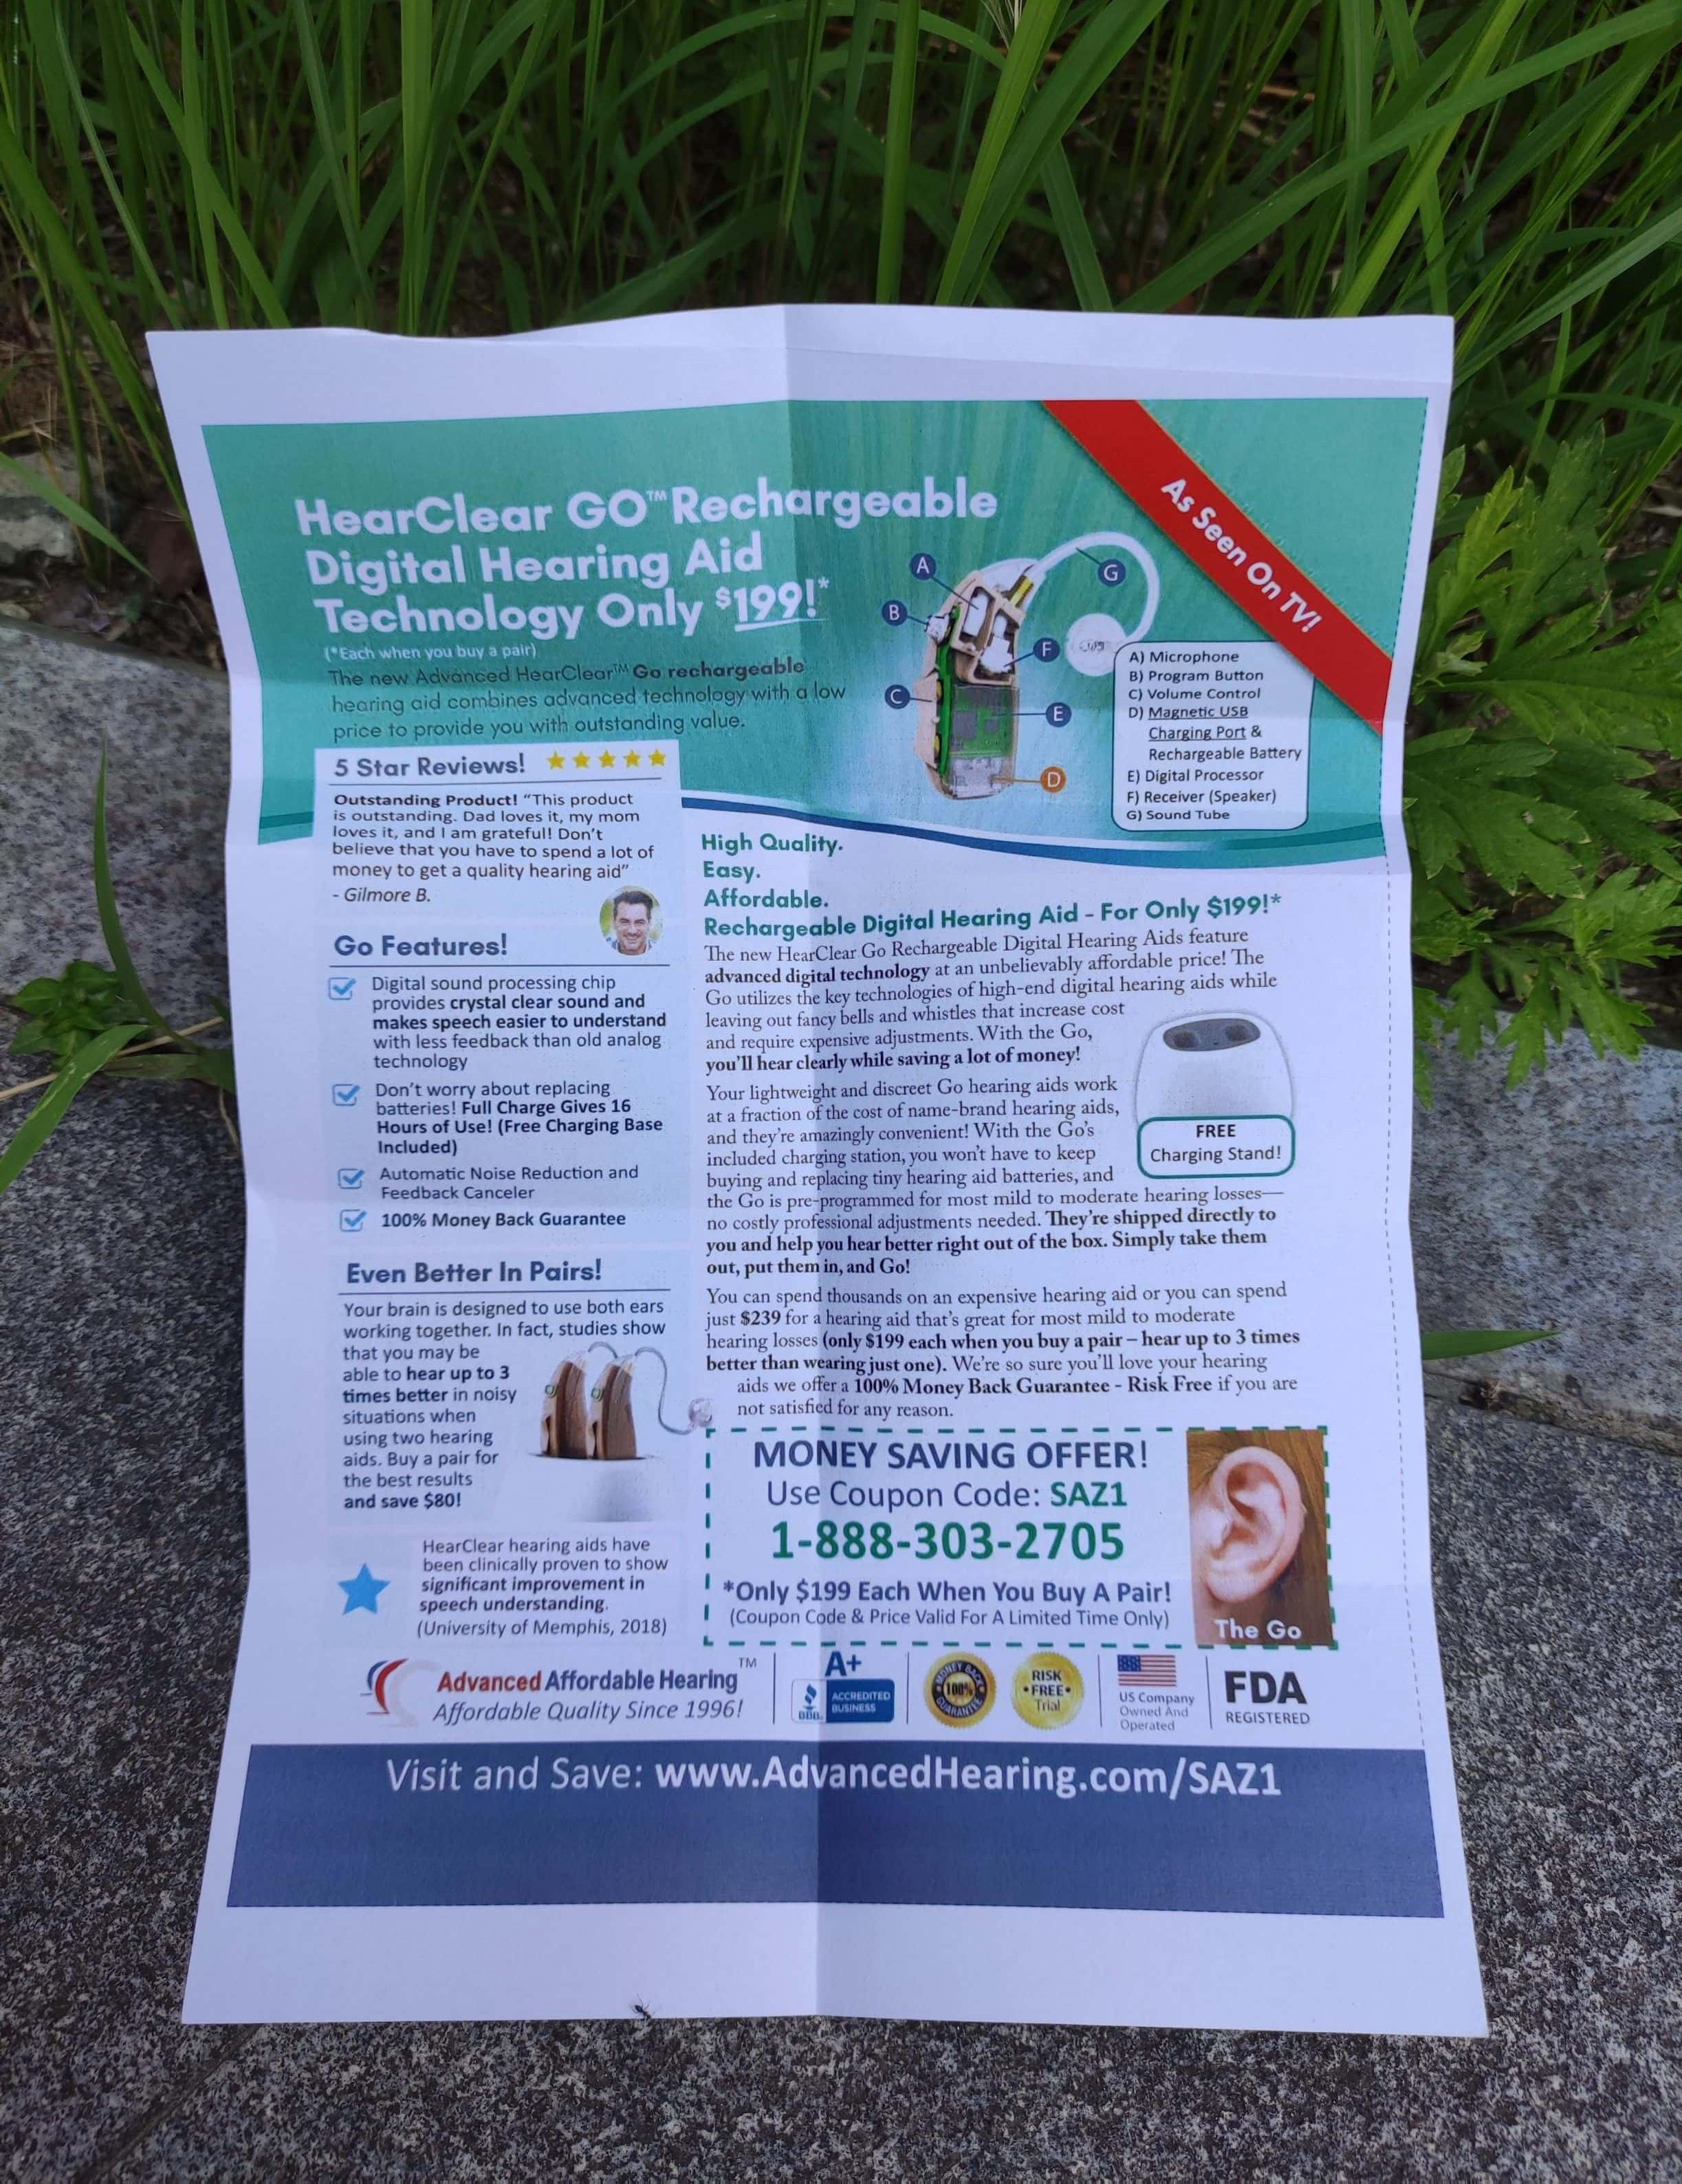paper: (72, 193, 1567, 2138)
